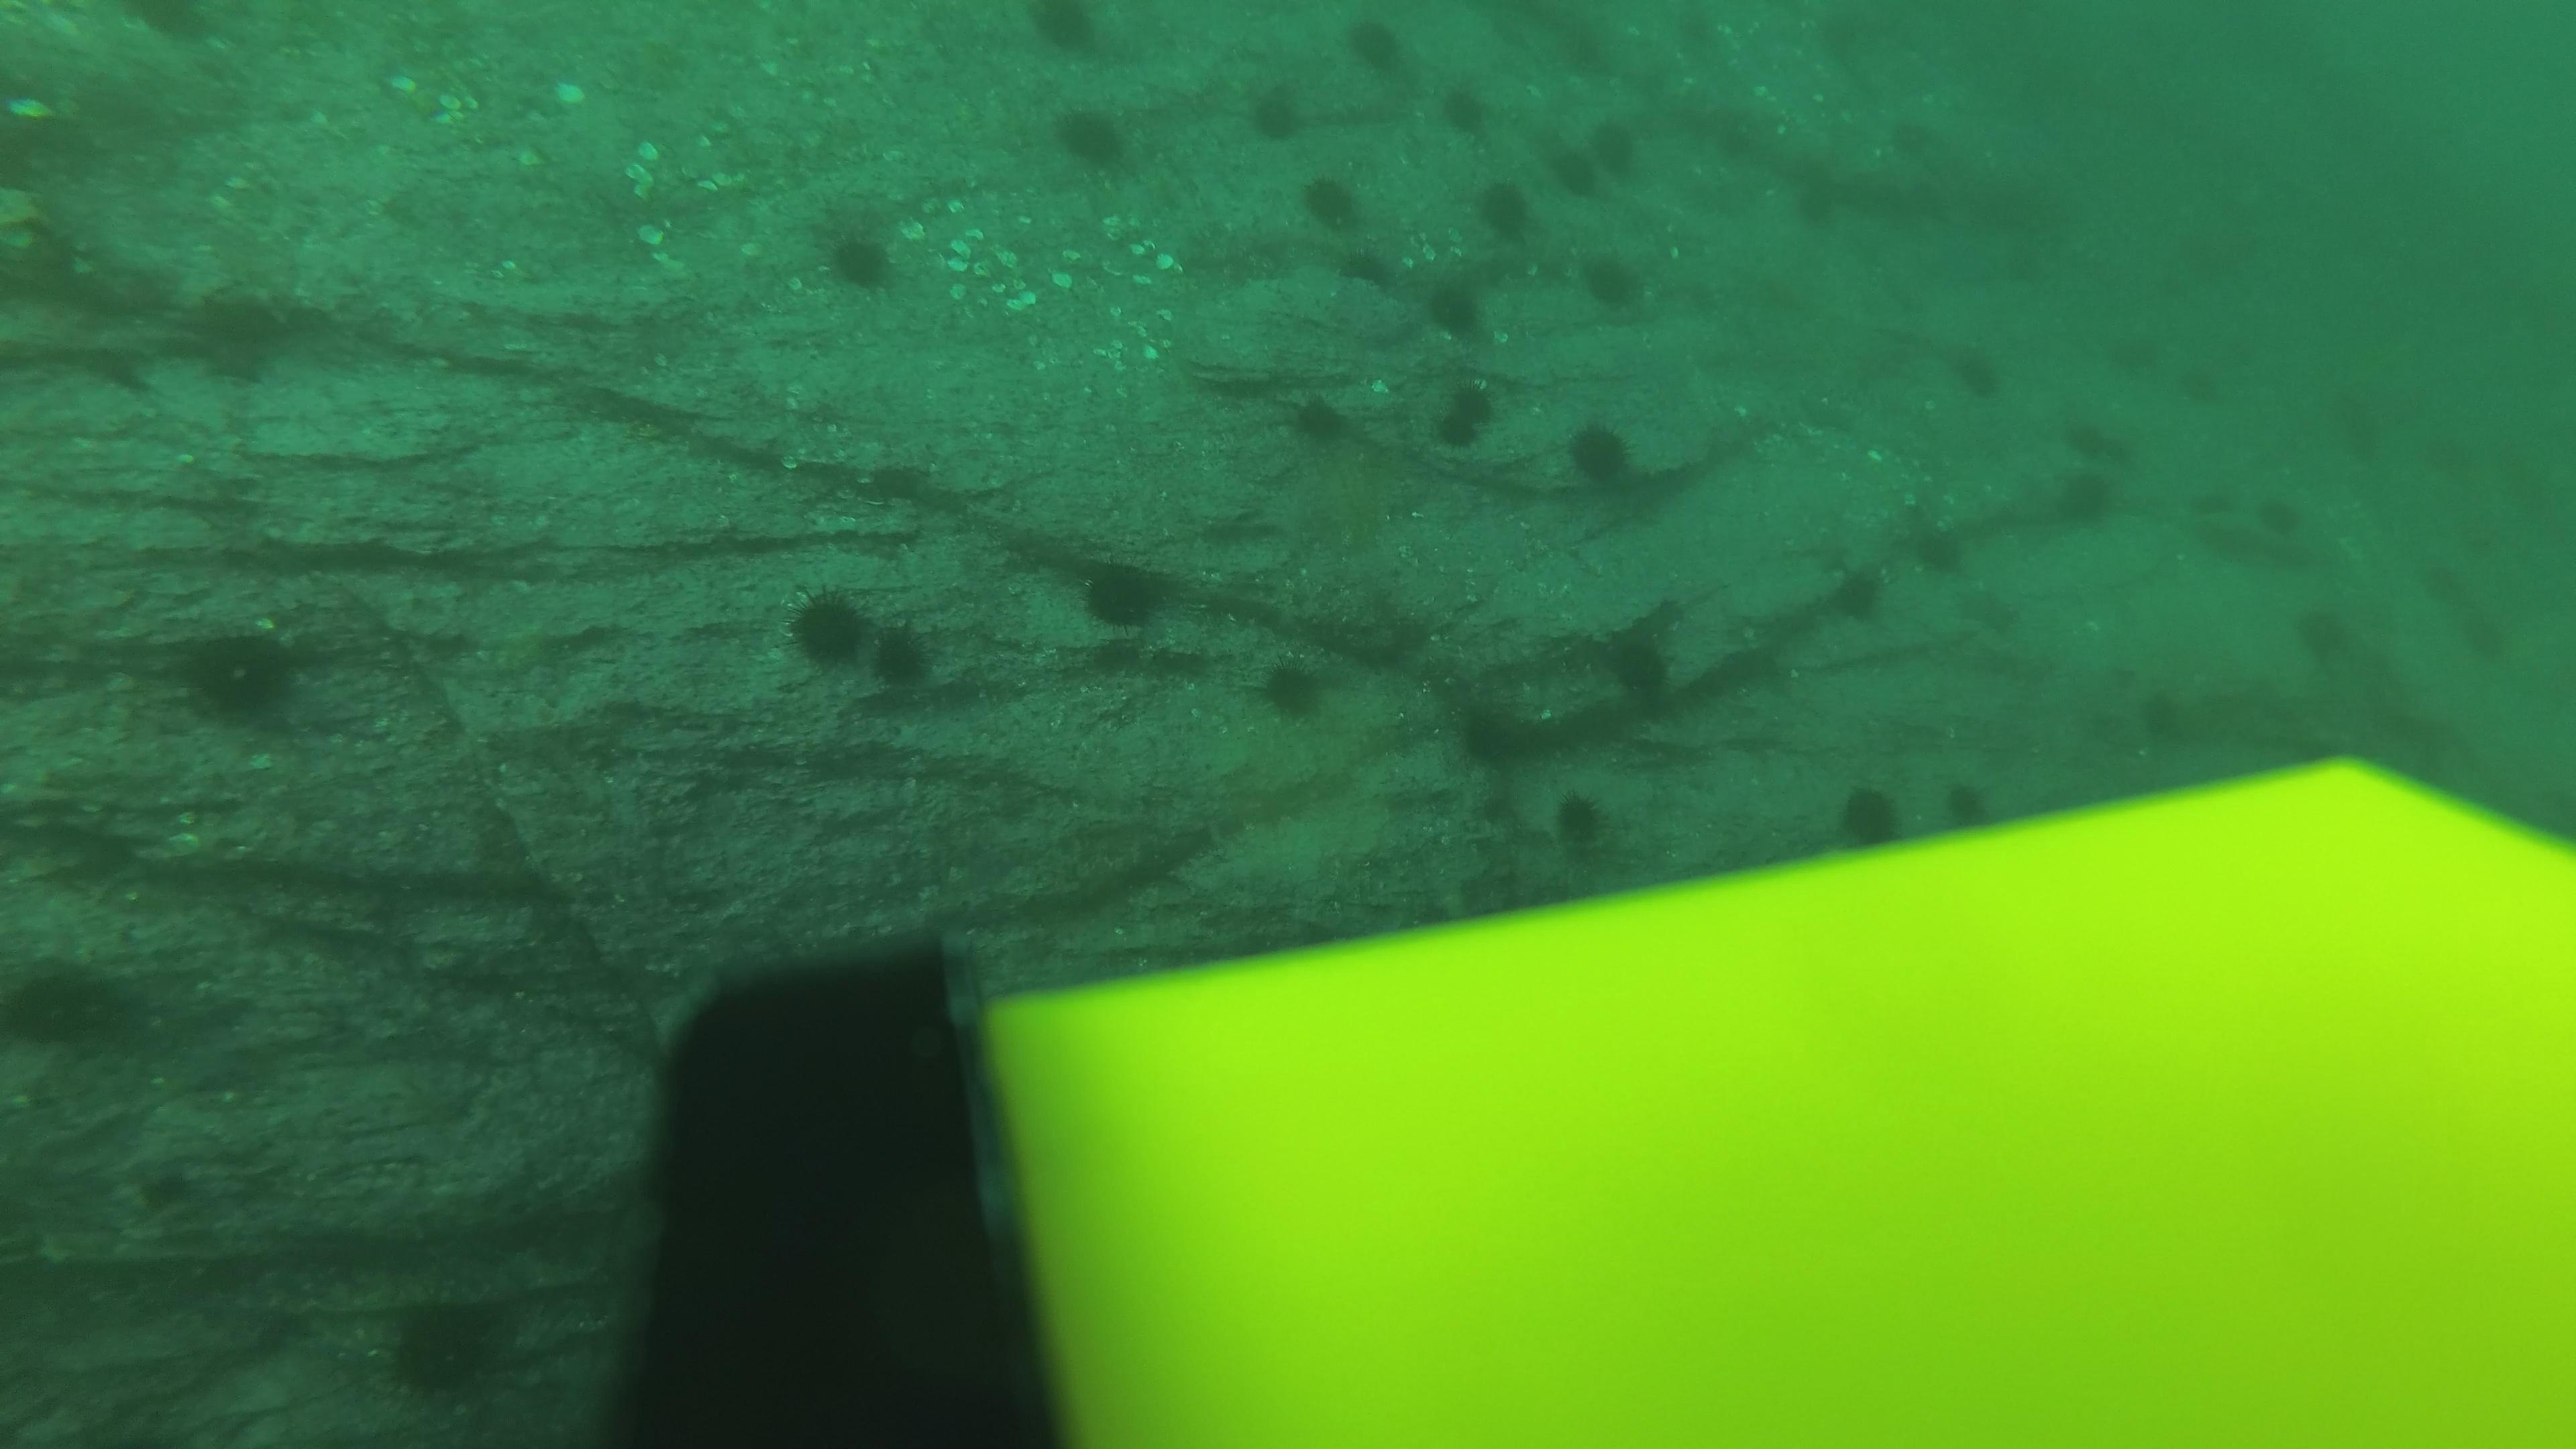echinus: (377, 1288, 513, 1405), (172, 619, 310, 731), (4, 950, 140, 1058), (186, 287, 292, 387), (1069, 550, 1177, 637), (812, 214, 906, 299), (1046, 97, 1139, 179), (775, 591, 872, 669), (1599, 625, 1683, 713), (1557, 414, 1644, 495), (1249, 649, 1338, 727), (1826, 777, 1913, 855), (1449, 695, 1536, 773), (2045, 460, 2125, 536), (1545, 786, 1622, 860), (1897, 508, 1974, 582), (1021, 0, 1109, 64), (1576, 246, 1652, 318), (1339, 11, 1414, 80), (860, 619, 936, 686), (1421, 274, 1491, 345), (1279, 389, 1355, 455), (1824, 557, 1893, 628), (1470, 173, 1537, 244), (1240, 80, 1311, 147), (1297, 168, 1366, 234), (1435, 78, 1495, 142), (1939, 777, 2005, 835), (2125, 685, 2190, 741), (2284, 607, 2350, 663), (1587, 126, 1647, 173), (1548, 154, 1606, 202), (1332, 249, 1392, 292), (2259, 494, 2304, 541), (2107, 341, 2160, 380), (2332, 425, 2385, 464), (2427, 439, 2480, 478), (1886, 122, 1939, 161), (2420, 566, 2465, 612), (1959, 359, 2010, 398), (2180, 239, 2231, 278), (1709, 129, 1760, 168), (2465, 614, 2507, 660), (1796, 188, 1845, 226), (1454, 379, 1497, 419), (1437, 409, 1479, 448), (2059, 419, 2104, 456), (2189, 488, 2231, 525), (2500, 441, 2542, 474), (1997, 253, 2040, 287), (2187, 372, 2226, 403), (2100, 433, 2137, 465)
